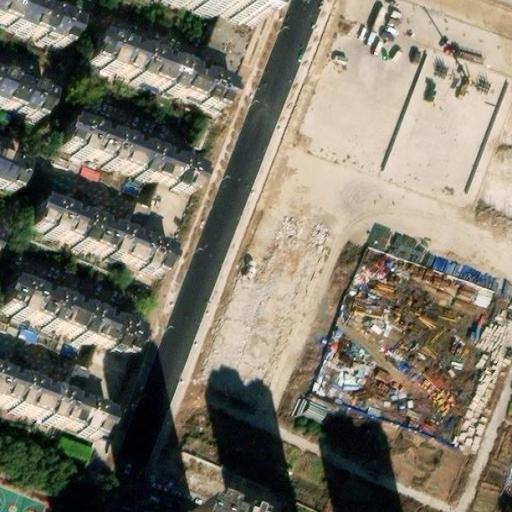building: (56, 119, 199, 201), (88, 28, 228, 111), (27, 203, 165, 280), (0, 377, 101, 448), (140, 189, 188, 253), (0, 77, 41, 121), (0, 158, 24, 198)
